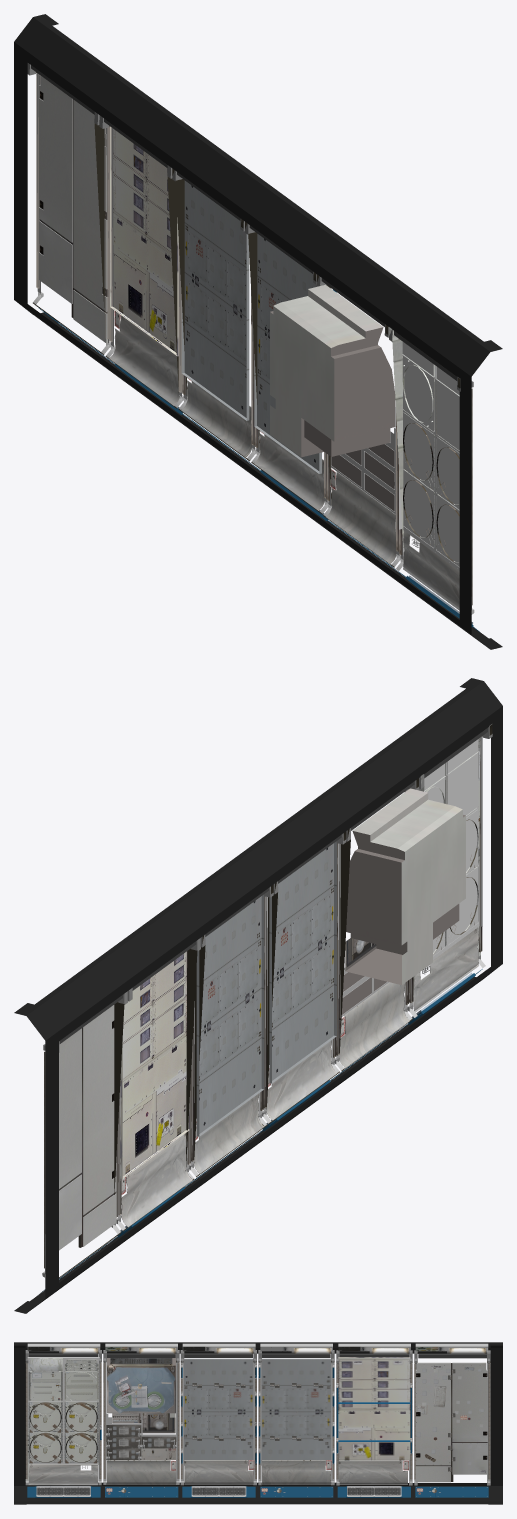
The model's file is US_Lab_starboardReduction.C.obj.
3 renders of one model, top to bottom at view 1: azimuth 30°, elevation 25°; view 2: azimuth 150°, elevation 25°; view 3: azimuth 270°, elevation 25°, orthographic. The views are drawn at different scales.
Bounding box in the file's own units: 0.6921 × 2.42 × 6.72.
